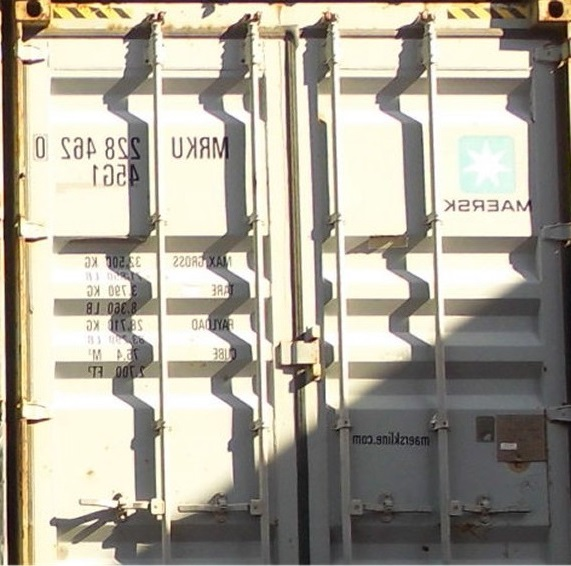container_door: (23, 4, 559, 560)
